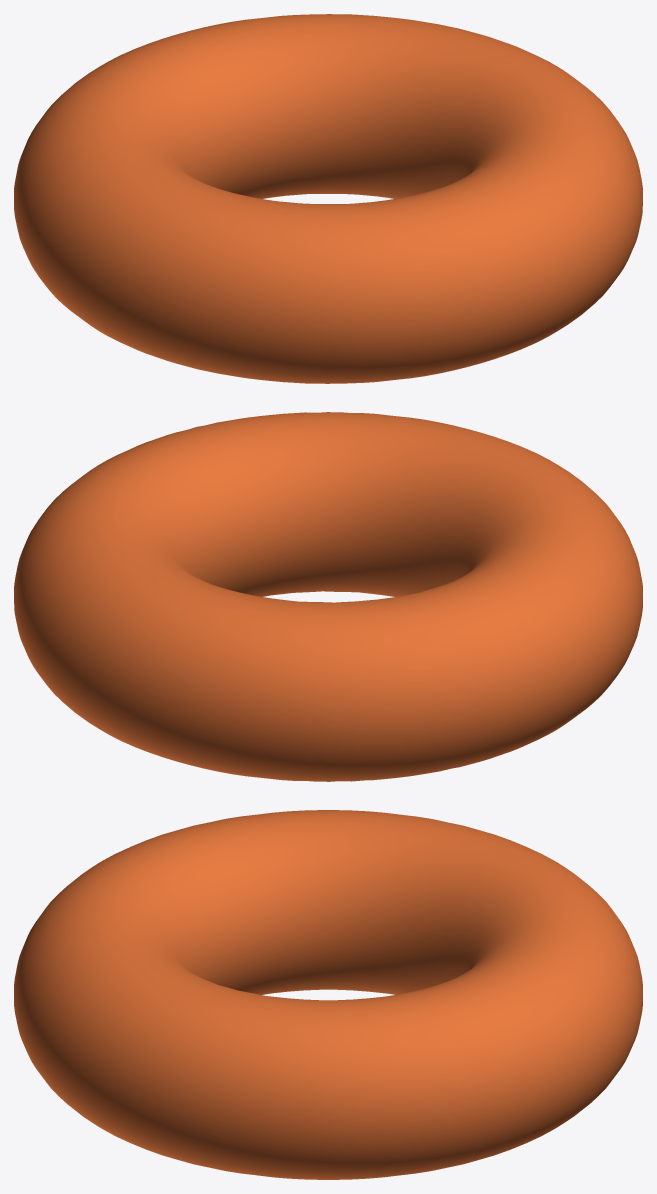
File: ring.glb
3 views of the same model, one above another, from view 1: azimuth 30°, elevation 25°; view 2: azimuth 150°, elevation 25°; view 3: azimuth 270°, elevation 25° (orthographic).
Visible parts, largest first — view 1: Ring; view 2: Ring; view 3: Ring.
Boxes of the visible parts, x1,y1,x2,y2 form: Ring: [14, 14, 642, 383]; Ring: [14, 412, 642, 781]; Ring: [14, 810, 642, 1179].
Size of the model in its own units: 0.1258 by 0.036 by 0.1258.
